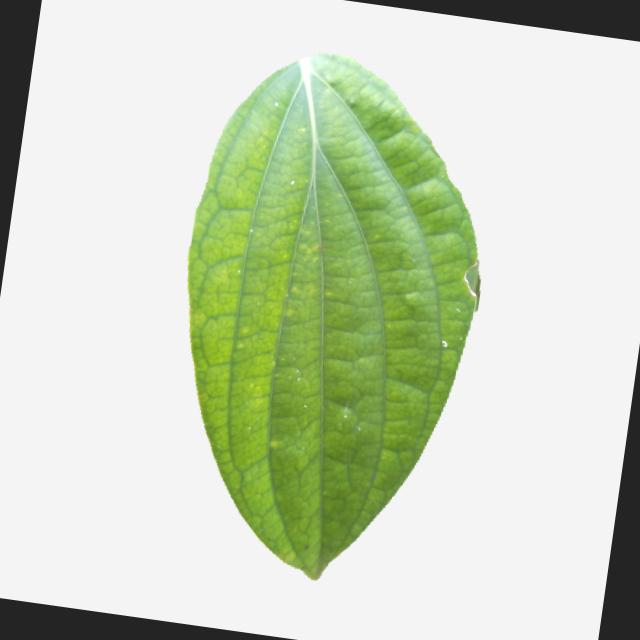healthy: (143, 36, 516, 601)
